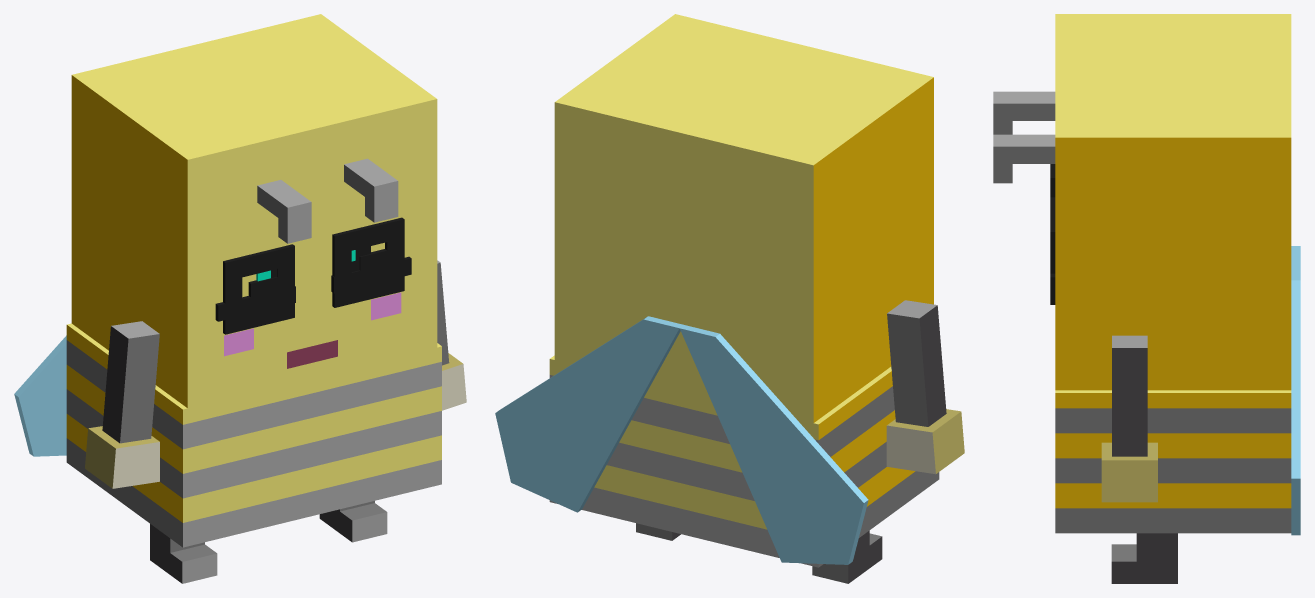
The picture shows the model from 3 angles, left to right: view 1: azimuth 30°, elevation 25°; view 2: azimuth 150°, elevation 25°; view 3: azimuth 270°, elevation 25°; orthographic projection. The views are drawn at different scales.
Visible parts, largest first — view 1: Ch_209_Head, Ch_209, Ch_209_Arm_L, Ch_209_Eye_03_R, Ch_209_Eye_03_L, Ch_209_Wing_R, Ch_209_Leg_L, Ch_209_Leg_R, Ch_209_Arm_R, Ch_209_Eye_02; view 2: Ch_209_Head, Ch_209, Ch_209_Wing_R, Ch_209_Wing_L, Ch_209_Arm_L, Ch_209_Leg_L; view 3: Ch_209_Head, Ch_209, Ch_209_Arm_R, Ch_209_Leg_R, Ch_209_Wing_L, Ch_209_Eye_03_R.
Part boxes in pixels (box(x1,y1,x2,y2)): Ch_209_Head: box(71, 14, 437, 408); Ch_209: box(66, 323, 441, 547); Ch_209_Arm_L: box(85, 321, 159, 488); Ch_209_Eye_03_R: box(332, 217, 404, 307); Ch_209_Eye_03_L: box(223, 244, 294, 334); Ch_209_Wing_R: box(14, 335, 66, 456); Ch_209_Leg_L: box(150, 524, 217, 583); Ch_209_Leg_R: box(319, 501, 387, 542); Ch_209_Arm_R: box(437, 260, 466, 410); Ch_209_Eye_02: box(215, 256, 411, 321); Ch_209_Head: box(554, 14, 933, 422); Ch_209: box(549, 355, 939, 567); Ch_209_Wing_R: box(679, 325, 868, 564); Ch_209_Wing_L: box(495, 316, 683, 512); Ch_209_Arm_L: box(886, 300, 964, 474); Ch_209_Leg_L: box(812, 530, 882, 583); Ch_209_Head: box(993, 14, 1291, 390); Ch_209: box(1055, 390, 1291, 533); Ch_209_Arm_R: box(1101, 335, 1157, 502); Ch_209_Leg_R: box(1111, 533, 1177, 583); Ch_209_Wing_L: box(1291, 263, 1300, 535); Ch_209_Eye_03_R: box(1050, 197, 1055, 304).
Bounding box in the file's own units: 6.65 × 8.05 × 4.9.
